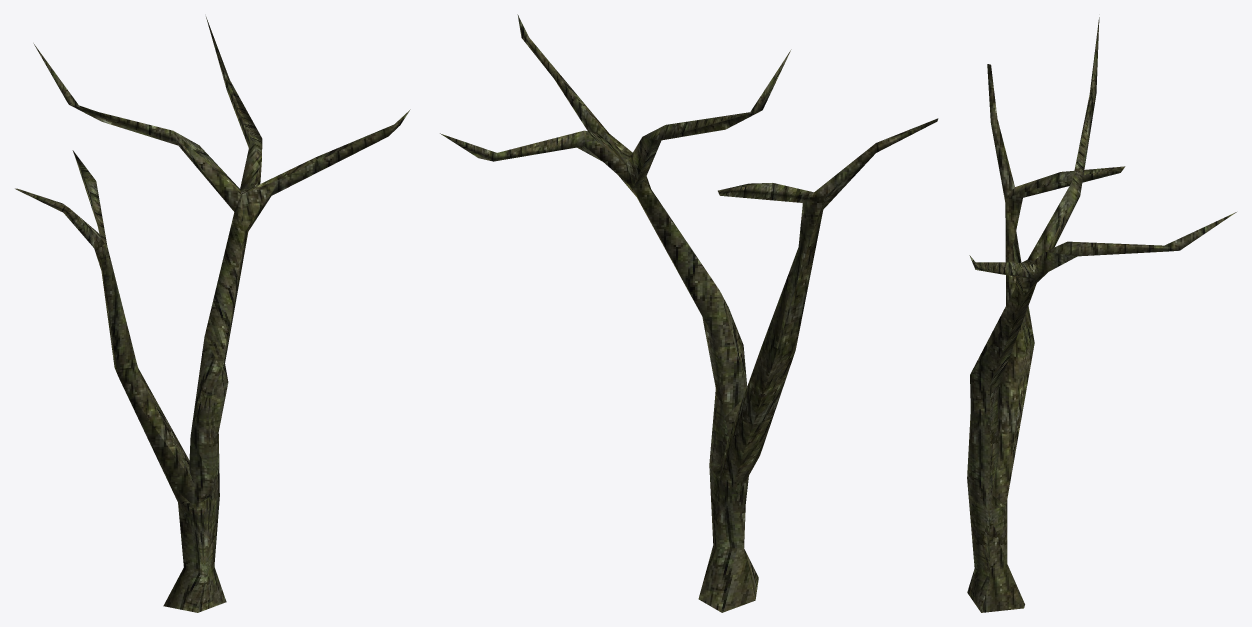
Rendered from tree_dead_1.glb.
3 renders of one model, left to right at view 1: azimuth 30°, elevation 25°; view 2: azimuth 150°, elevation 25°; view 3: azimuth 270°, elevation 25°, orthographic. The views are drawn at different scales.
Visible parts, largest first — view 1: tree_dead_1; view 2: tree_dead_1; view 3: tree_dead_1.
Boxes of the visible parts, <box> form: tree_dead_1: <box>15,17,410,612</box>; tree_dead_1: <box>440,14,938,612</box>; tree_dead_1: <box>967,17,1236,612</box>.
Size of the model in its own units: 5.24 by 7.22 by 3.27.
1 material, 1 textured.
